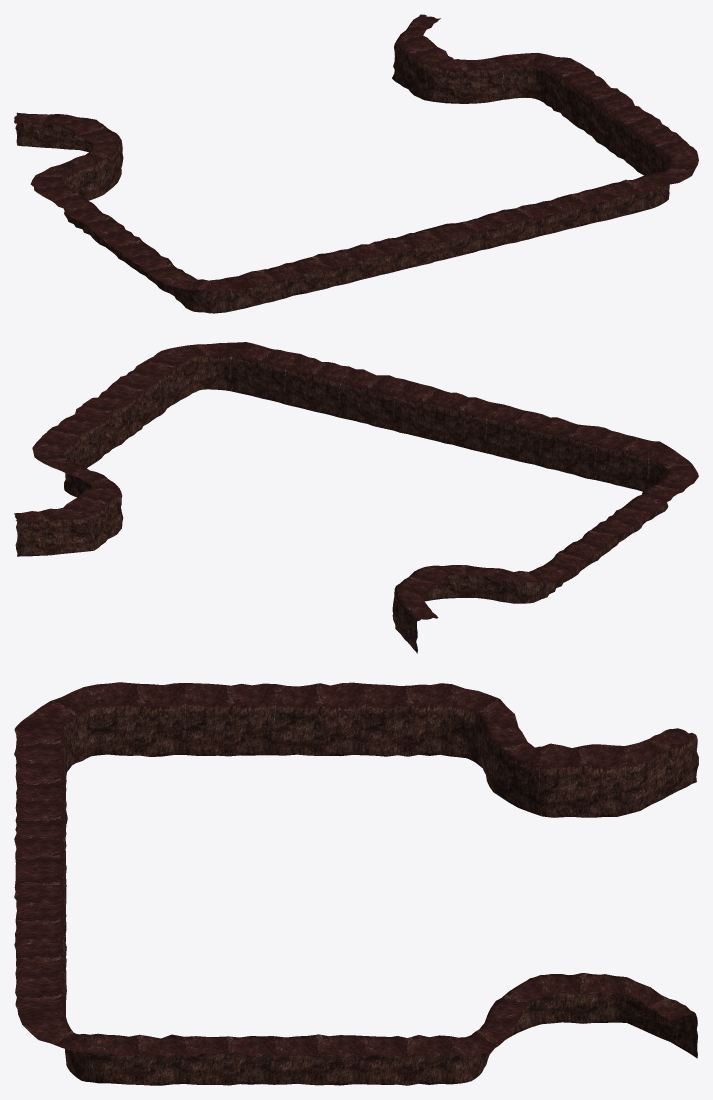
The model's file is map bounds.FBX.
3 views of the same model, one above another, from view 1: azimuth 30°, elevation 25°; view 2: azimuth 150°, elevation 25°; view 3: azimuth 270°, elevation 25° (orthographic). The views are drawn at different scales.
Parts seen in each view (by area): view 1: Plane023; view 2: Plane023; view 3: Plane023.
Boxes of the visible parts, <box> form: Plane023: <box>14,14,698,313</box>; Plane023: <box>14,342,698,653</box>; Plane023: <box>14,682,698,1085</box>.
Size of the model in its own units: 3792 by 253 by 2940.
